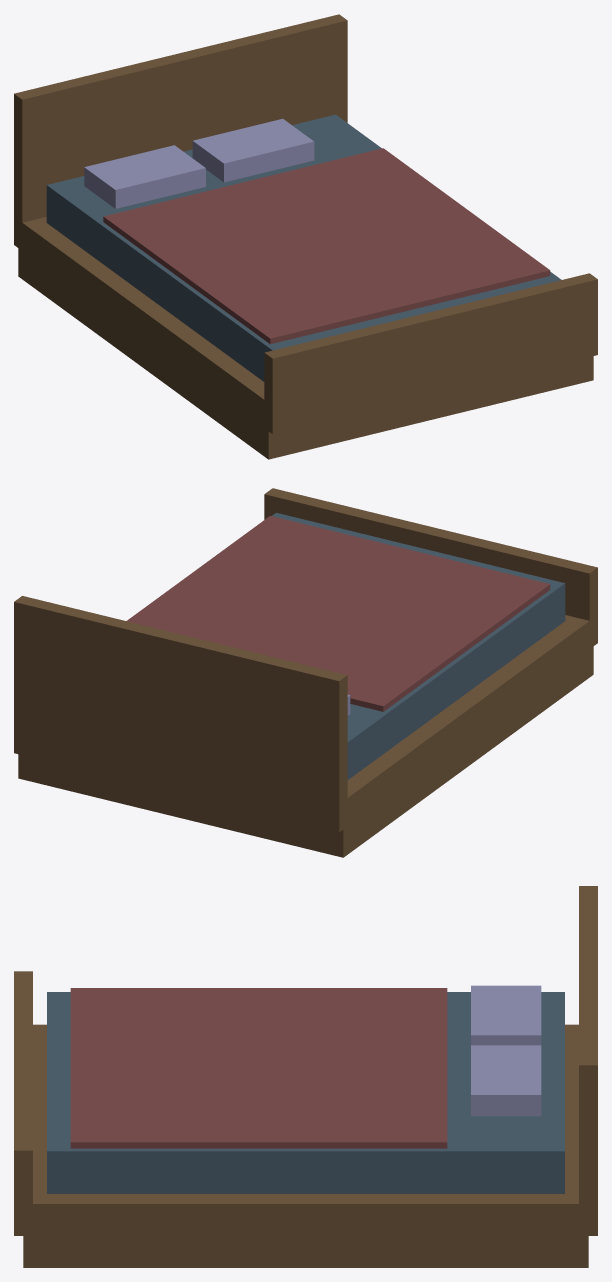
File: bed.glb
3 views of the same model, one above another, from view 1: azimuth 30°, elevation 25°; view 2: azimuth 150°, elevation 25°; view 3: azimuth 270°, elevation 25° (orthographic). The views are drawn at different scales.
Bounding box in the file's own units: 1.8 × 0.95 × 2.48.
